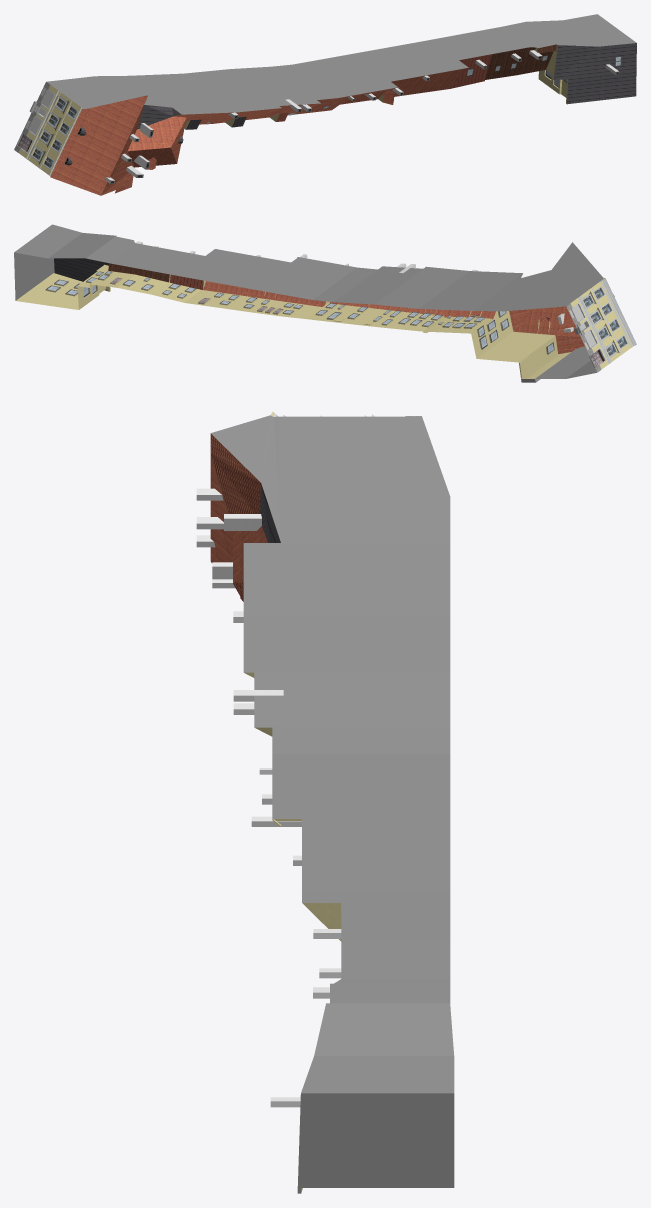
The model's file is Vene_10_1.obj.
The picture shows the model from 3 angles, top to bottom: view 1: azimuth 30°, elevation 25°; view 2: azimuth 150°, elevation 25°; view 3: azimuth 270°, elevation 25°; orthographic projection. The views are drawn at different scales.
Parts seen in each view (by area): view 1: Vene_10_1; view 2: Vene_10_1; view 3: Vene_10_1.
Boxes of the visible parts, <box> form: Vene_10_1: <box>14,14,636,195</box>; Vene_10_1: <box>14,224,636,382</box>; Vene_10_1: <box>196,412,454,1193</box>.
Size of the model in its own units: 114 by 26.11 by 22.04.
